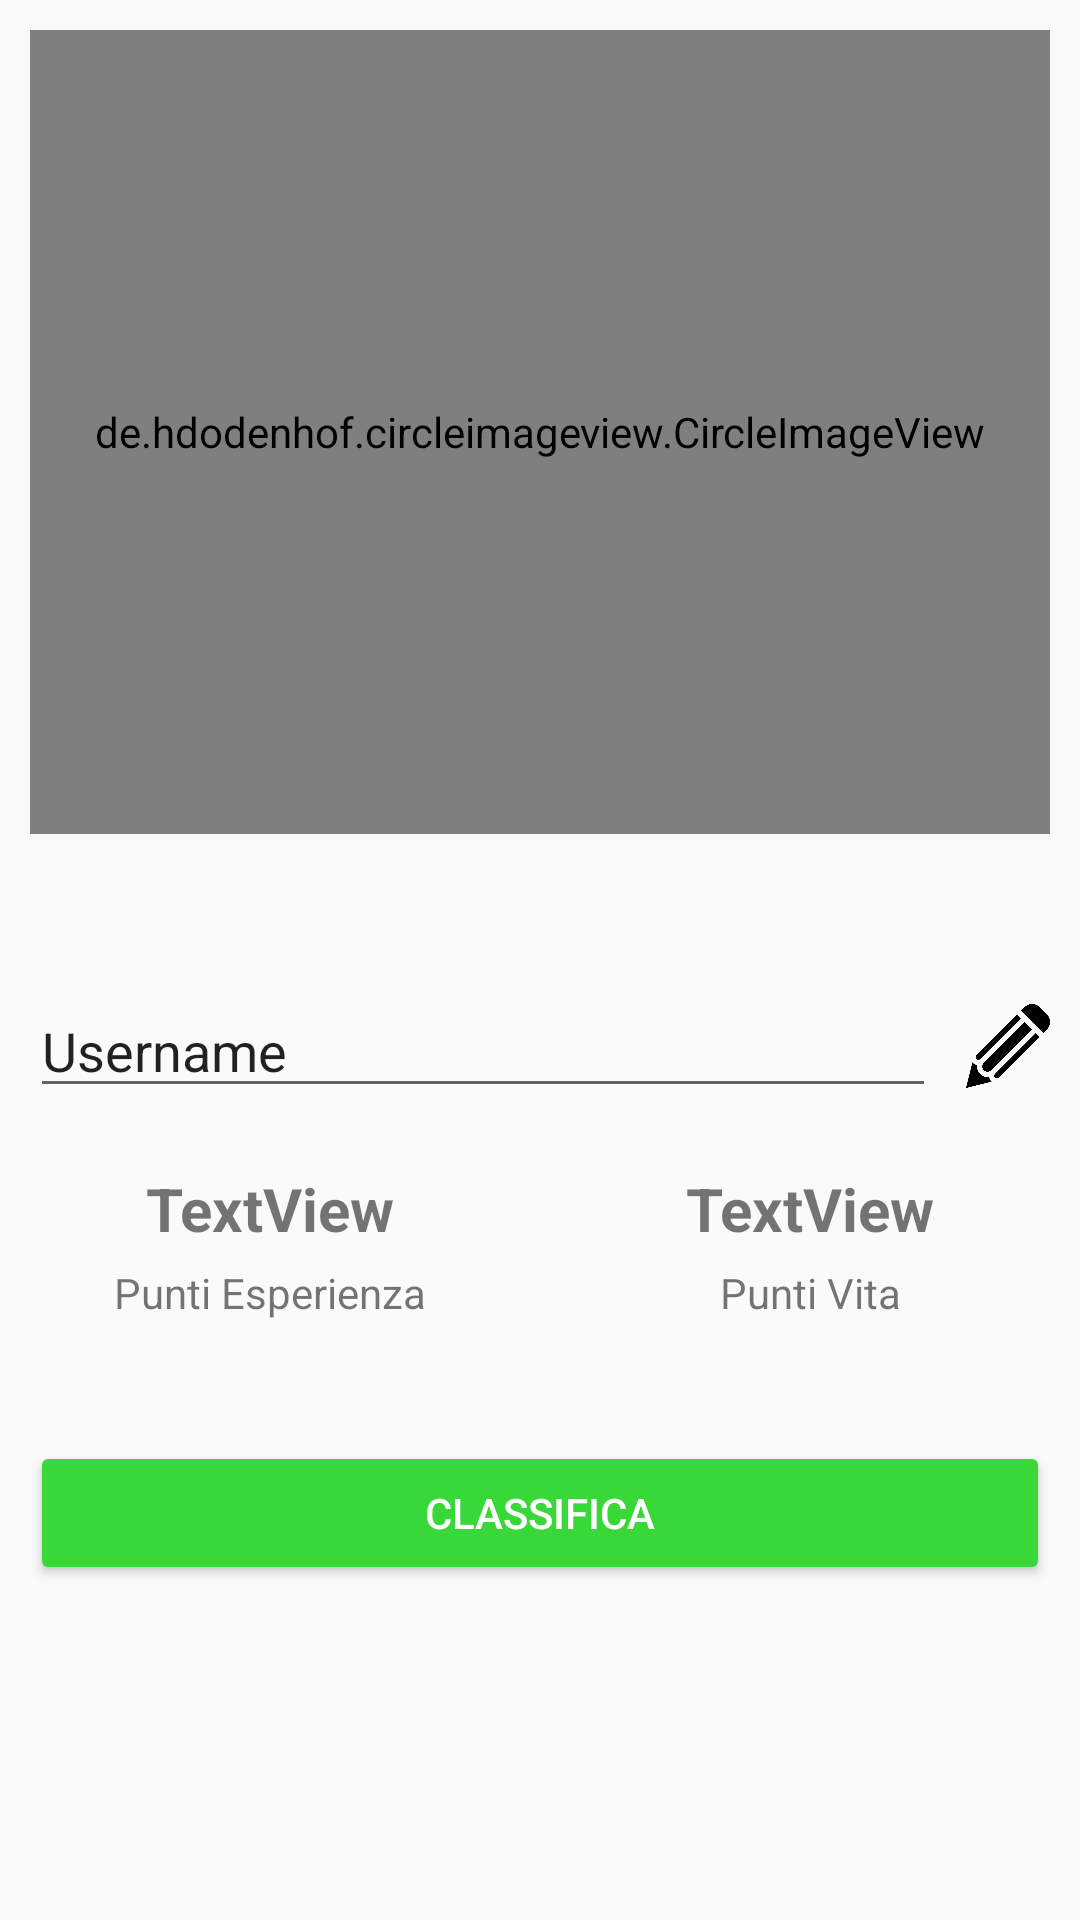

Where icons sit on this 1080 x 1920 app screen, as (x1, y1, x2, y2):
modify pencil: (966, 1004, 1050, 1088)
